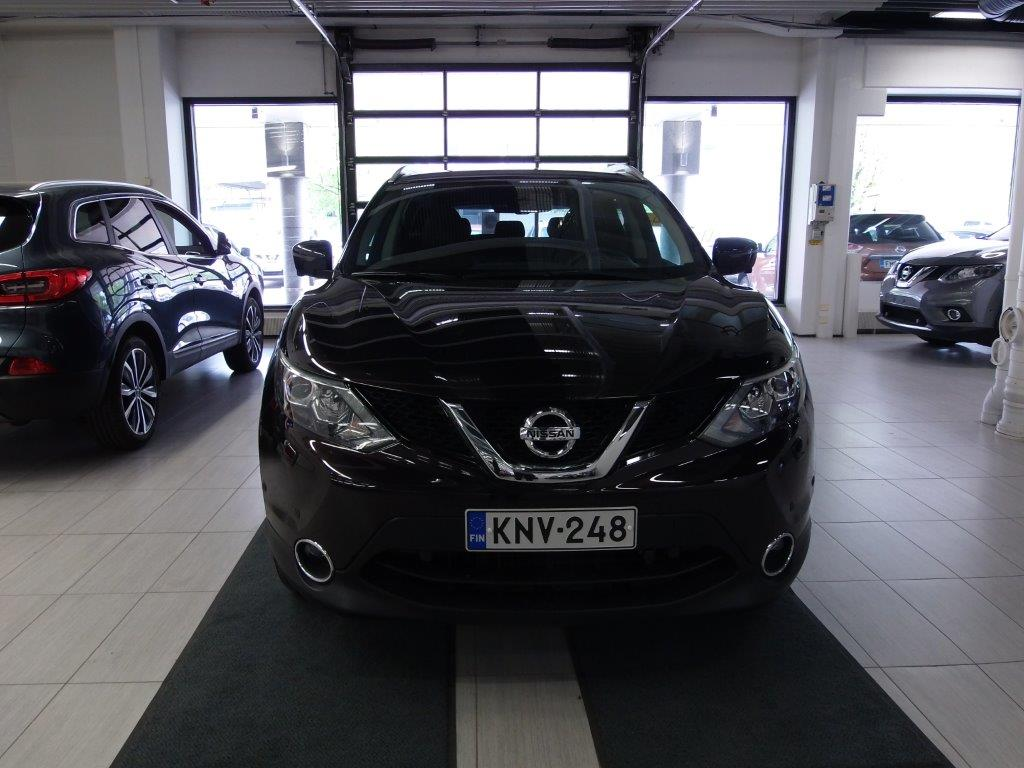license: (458, 511, 635, 555)
